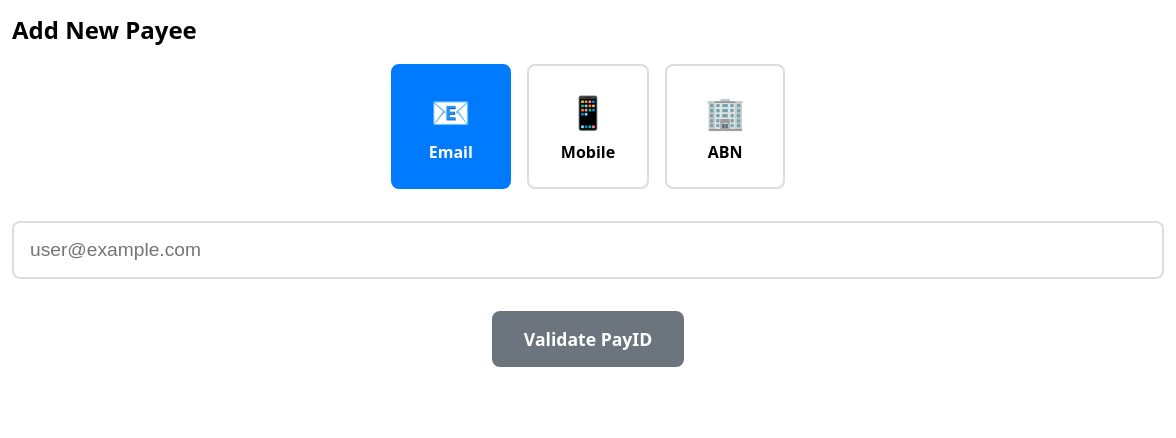
Test: AddNewPayee › form validation › should validate ABN format on blur
Step 1. Click the button "🏢 ABN" → (725, 126), box x1=665 y1=64 x2=785 y2=189
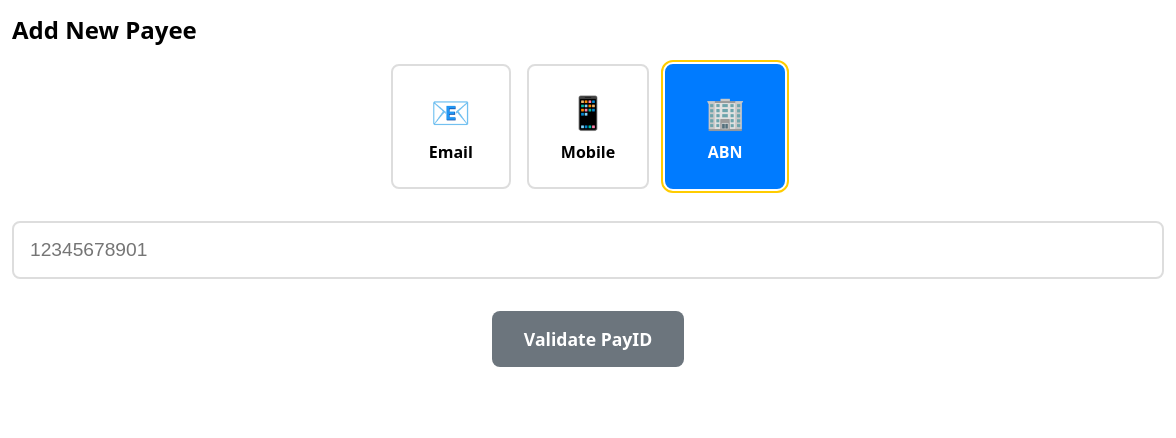
Step 2. Type "123" into the field with placeholder "12345678901" → (588, 250), box x1=12 y1=221 x2=1164 y2=279
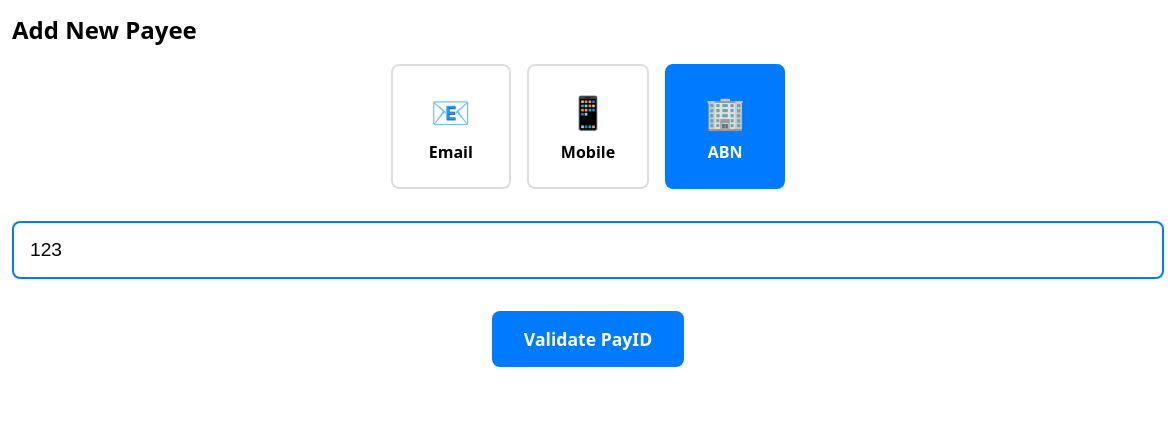
Step 3. Press Tab
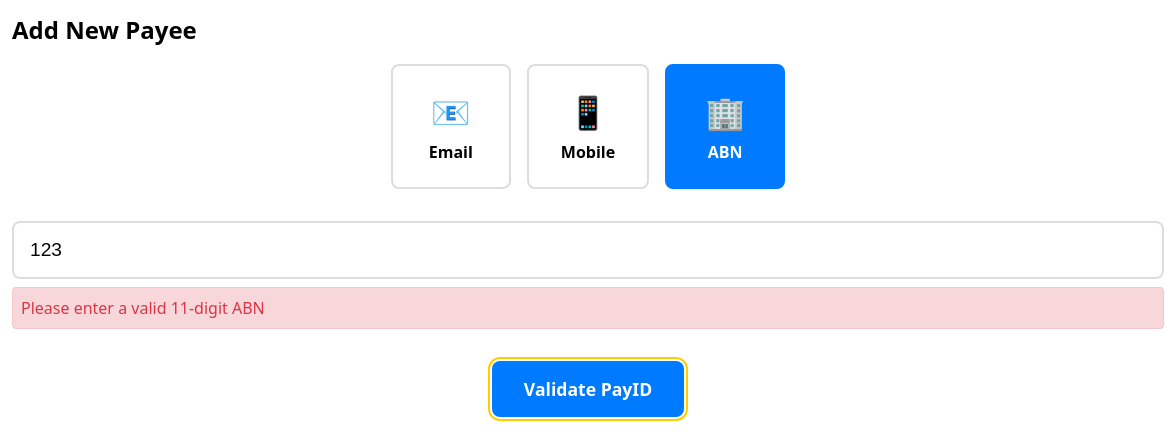
Expected: the text "Please enter a valid 11-digit ABN" is shown, x1=12 y1=287 x2=1164 y2=329
